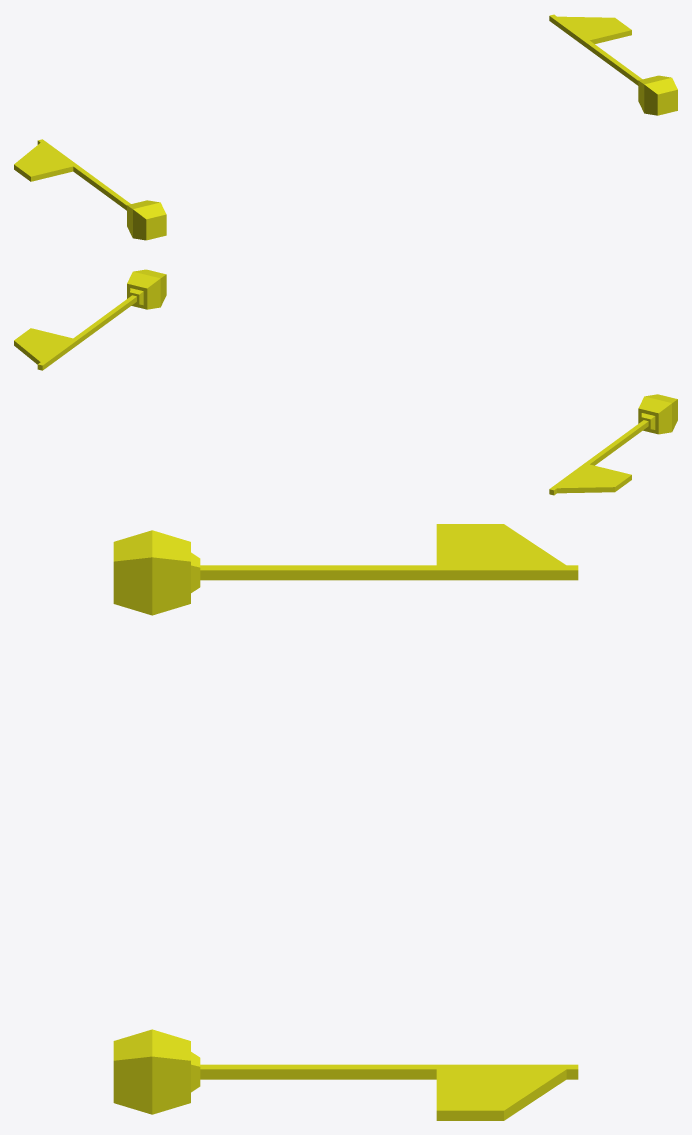
File: CheckPoint_Modelo.fbx
The picture shows the model from 3 angles, top to bottom: view 1: azimuth 30°, elevation 25°; view 2: azimuth 150°, elevation 25°; view 3: azimuth 270°, elevation 25°; orthographic projection. The views are drawn at different scales.
Visible parts, largest first — view 1: CheckPoints; view 2: CheckPoints; view 3: CheckPoints.
Part boxes in pixels (x1,y1,x2,y2): CheckPoints: (14, 14, 677, 240); CheckPoints: (14, 269, 677, 495); CheckPoints: (113, 524, 578, 1120).
Bounding box in the file's own units: 1437 × 66.52 × 481.
